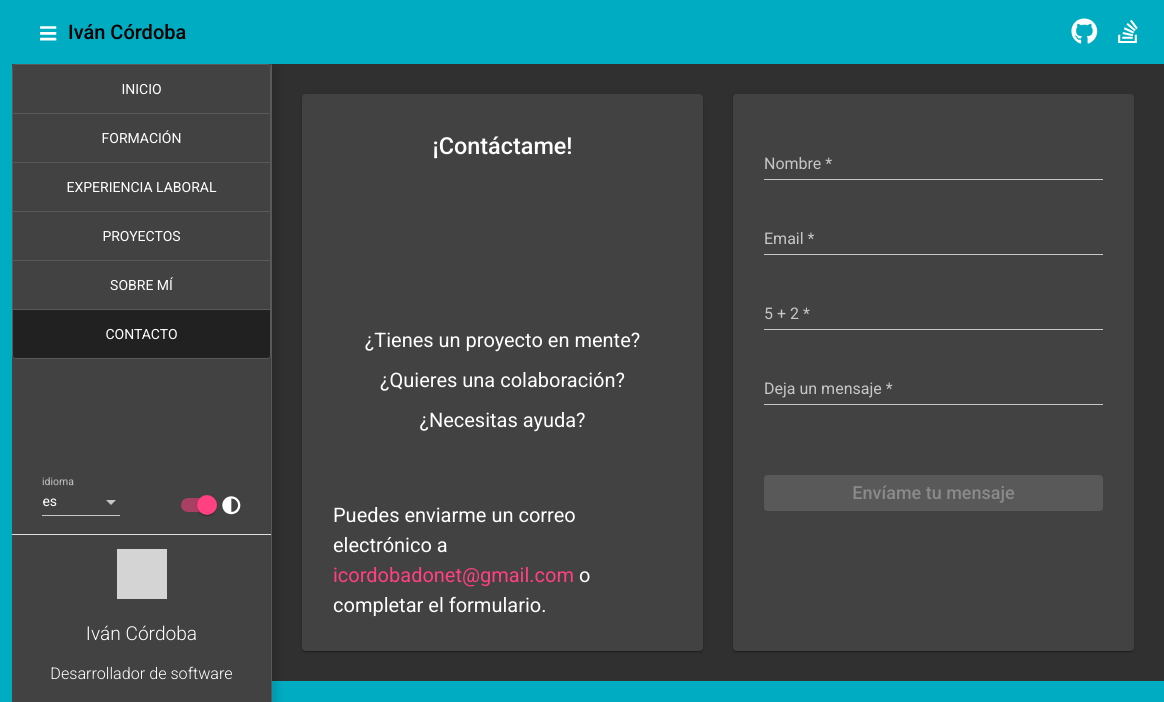
Contact Page › should show required error on name field
Type "nabby27" into the field with test id "contactFieldNameInput".
click(934, 164); type("nabby27")  # box x1=764 y1=155 x2=1103 y2=173
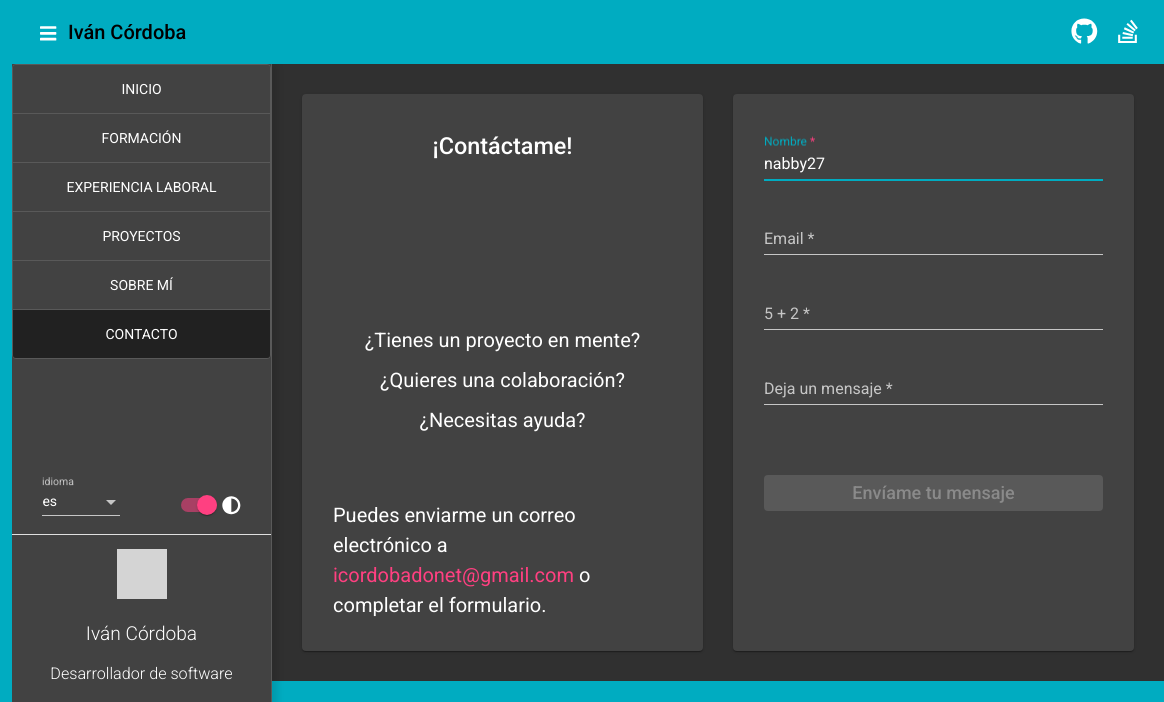
Clear the field with test id "contactFieldNameInput" at (934, 164), box x1=764 y1=155 x2=1103 y2=173
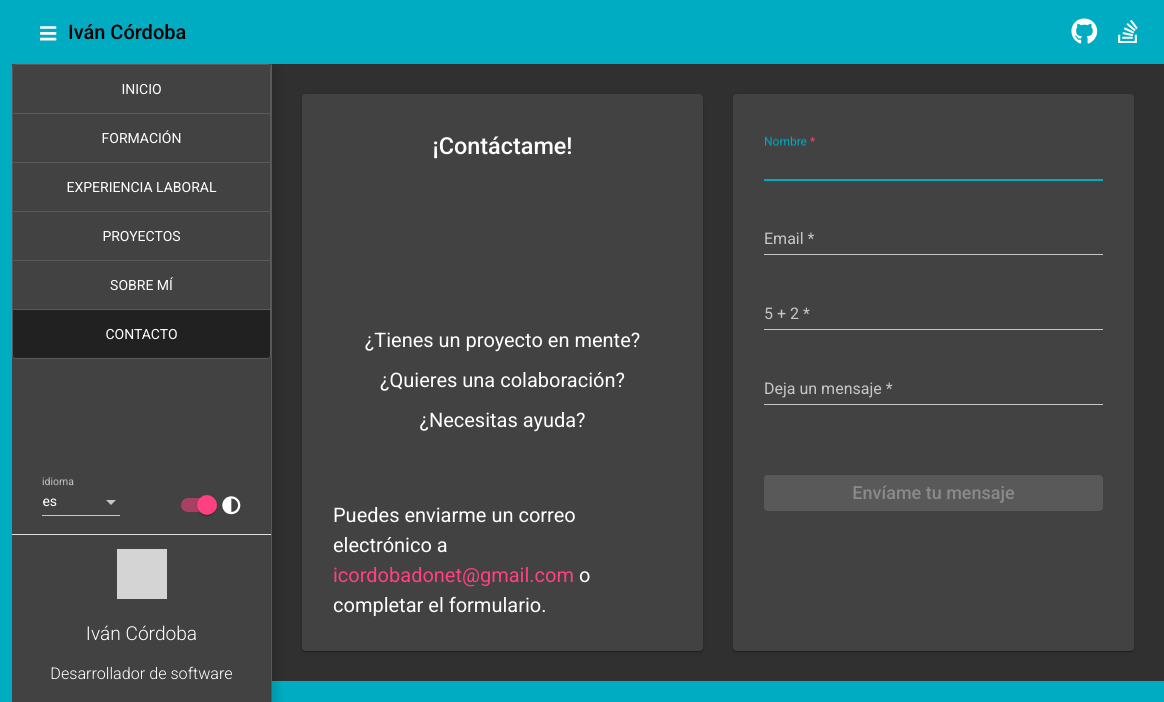
Click the element with test id "contactCard" that starts with "¡Contáctame!".
click(503, 373)  # box x1=302 y1=94 x2=703 y2=651
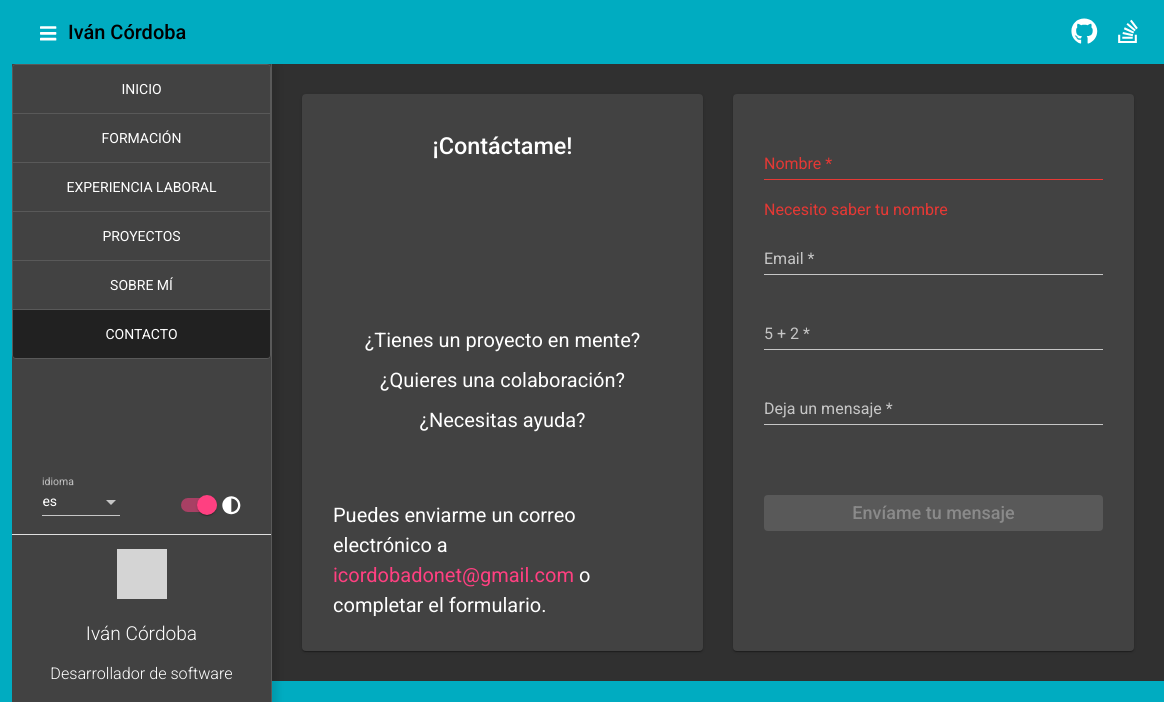
Check: the text "Necesito saber tu nombre" is shown, box x1=764 y1=200 x2=948 y2=219
